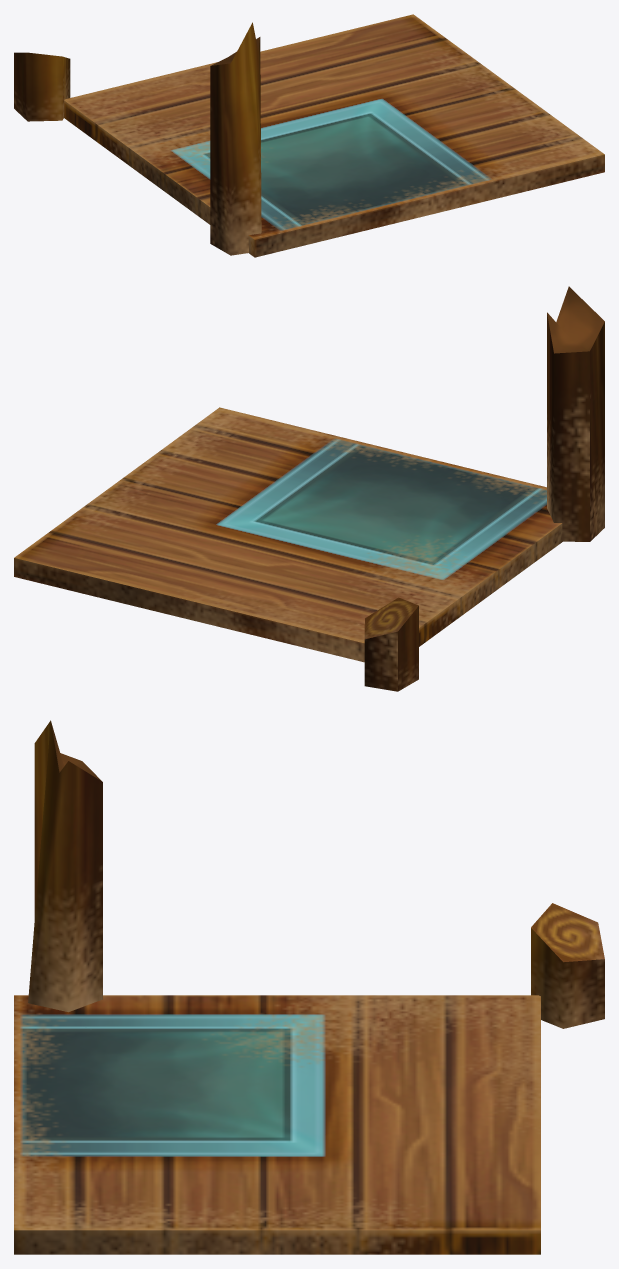
File: tanwei07.FBX
The picture shows the model from 3 angles, top to bottom: view 1: azimuth 30°, elevation 25°; view 2: azimuth 150°, elevation 25°; view 3: azimuth 270°, elevation 25°; orthographic projection. The views are drawn at different scales.
Visible parts, largest first — view 1: tanwei07; view 2: tanwei07; view 3: tanwei07.
Part boxes in pixels (left/top/right/bottom): tanwei07: left=14, top=14, right=604, bottom=257; tanwei07: left=14, top=286, right=604, bottom=691; tanwei07: left=14, top=720, right=604, bottom=1254.
Bounding box in the file's own units: 159 × 89.1 × 155.
